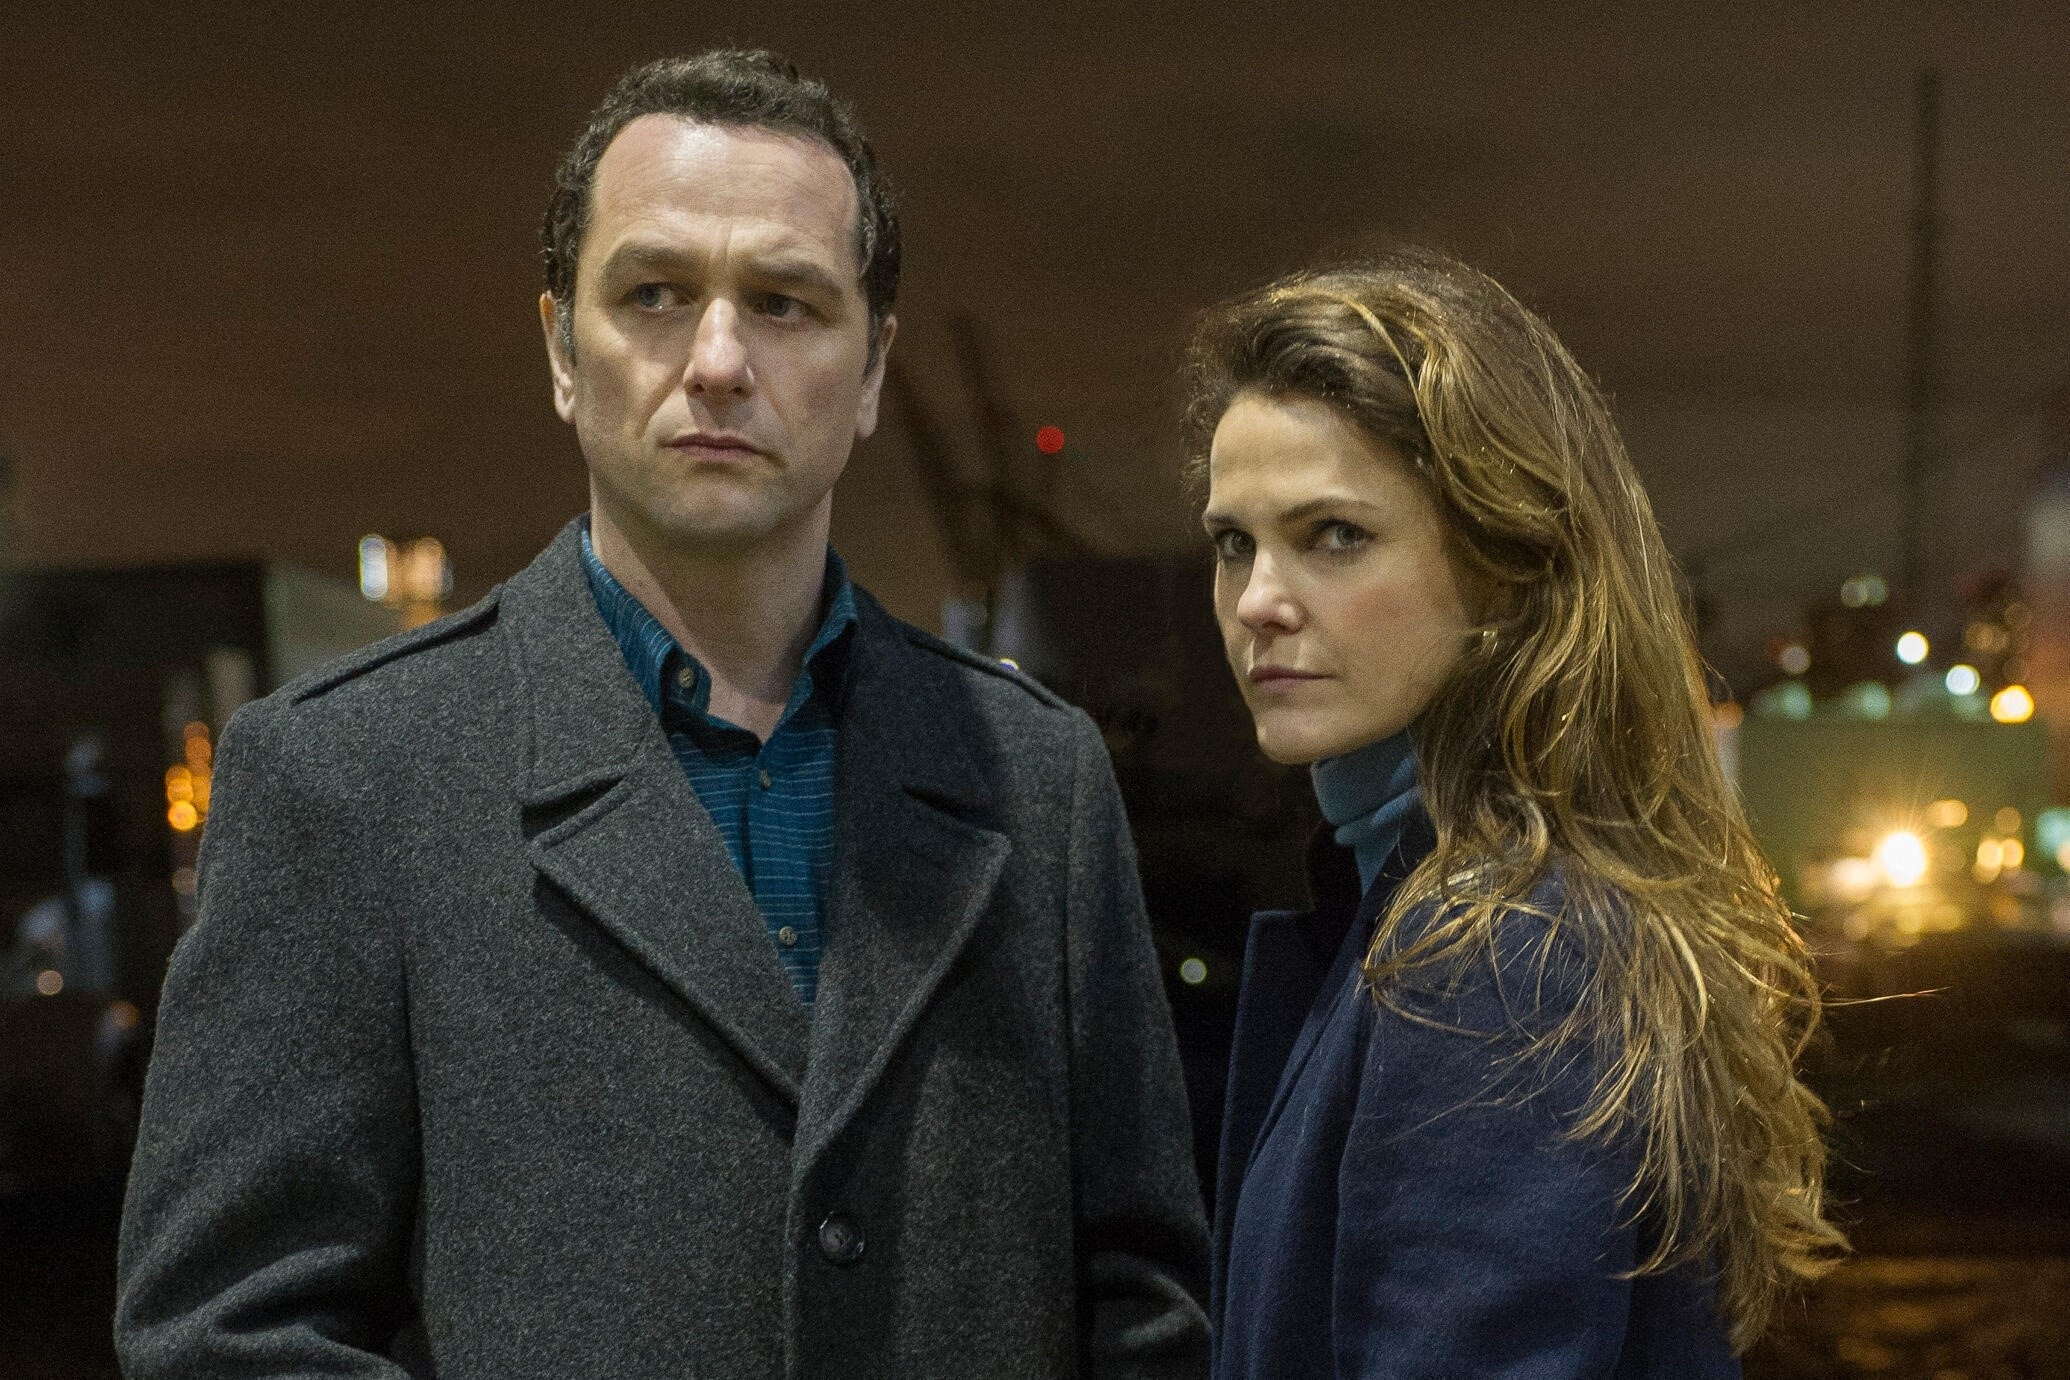face_no_mask: (1193, 256, 1576, 761), (536, 52, 908, 542)
